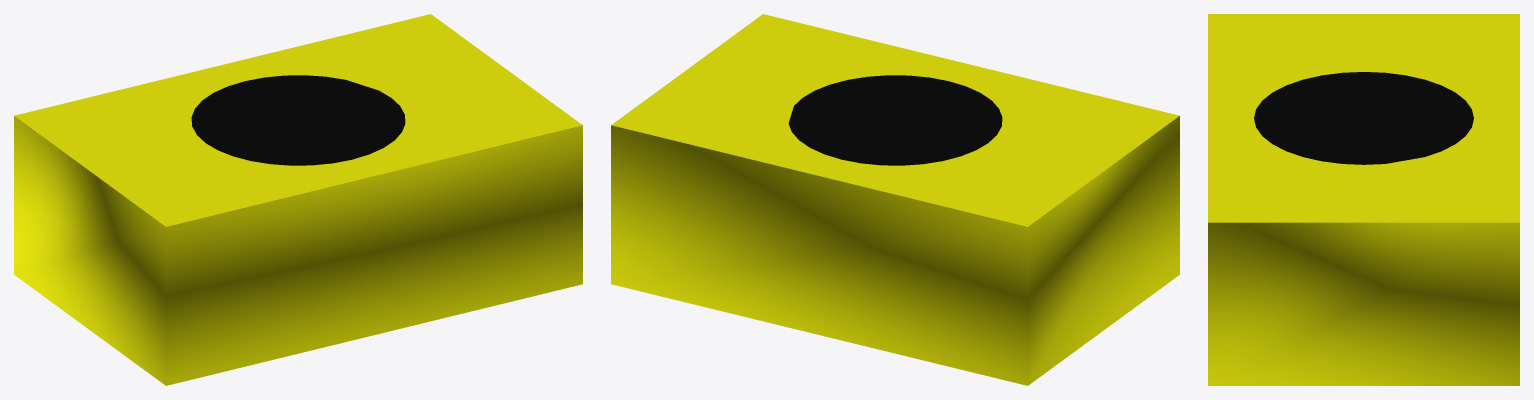
File: BlockE.fbx
3 views of the same model, side by side, from view 1: azimuth 30°, elevation 25°; view 2: azimuth 150°, elevation 25°; view 3: azimuth 270°, elevation 25° (orthographic). The views are drawn at different scales.
Visible parts, largest first — view 1: Plane; view 2: Plane; view 3: Plane.
Boxes of the visible parts, x1=… form: Plane: x1=14, y1=14, x2=582, y2=385; Plane: x1=611, y1=14, x2=1179, y2=385; Plane: x1=1208, y1=14, x2=1519, y2=385.
Size of the model in its own units: 52.25 by 19.05 by 33.
